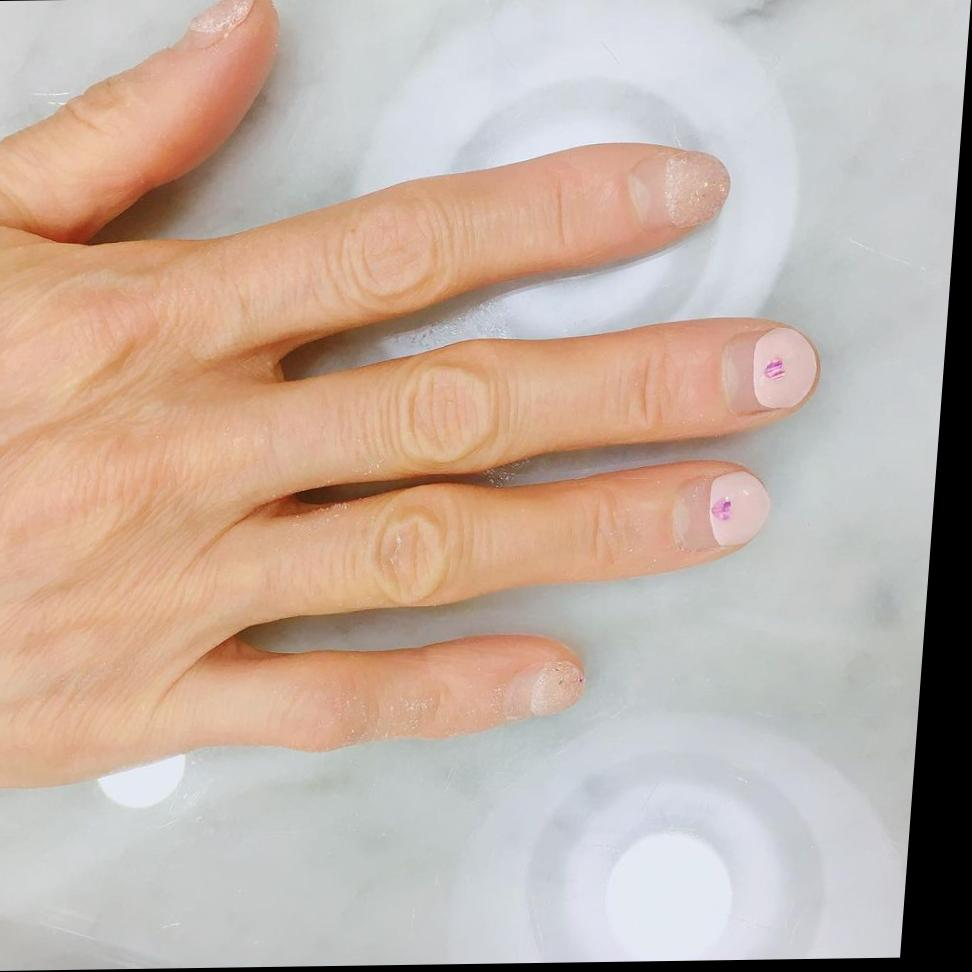nail: (226, 314, 824, 506), (185, 0, 259, 41)
